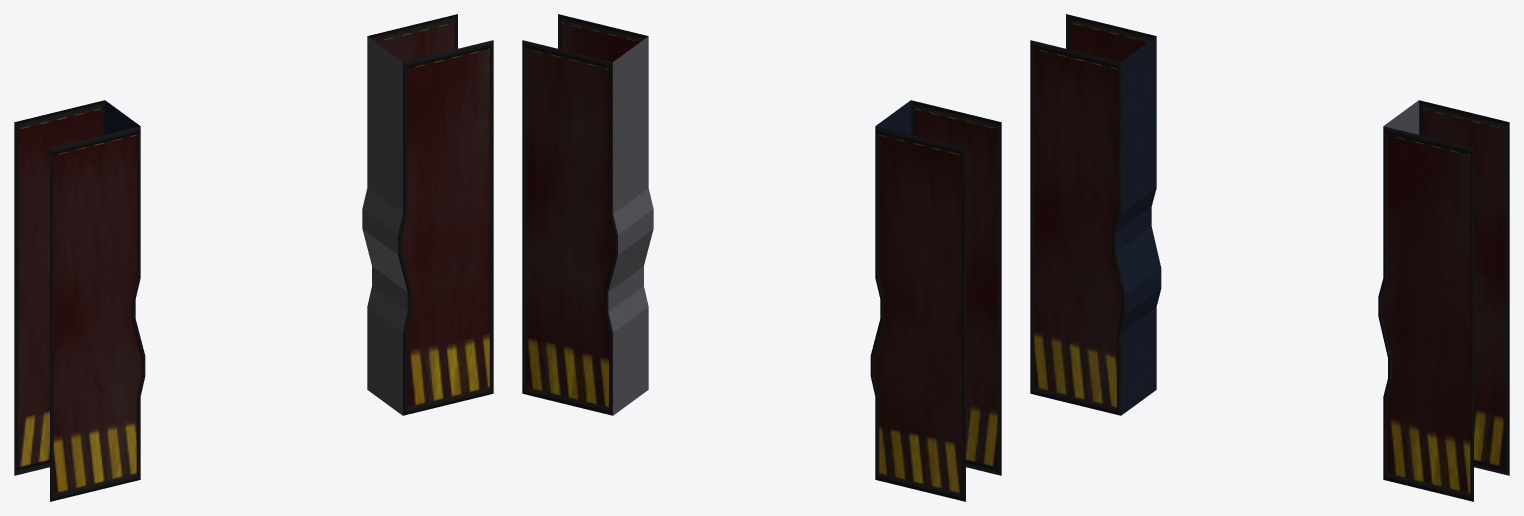
Rendered from door-frame-locked_000006.obj.
3 renders of one model, left to right at view 1: azimuth 30°, elevation 25°; view 2: azimuth 150°, elevation 25°; view 3: azimuth 330°, elevation 25°, orthographic.
Parts seen in each view (by area): view 1: Door.Left_Cube.007, Door.Right_Cube.006; view 2: Door.Left_Cube.007, Door.Right_Cube.006; view 3: Door.Left_Cube.007, Door.Right_Cube.006.
Part boxes in pixels (x1=…): Door.Left_Cube.007: x1=362, y1=14, x2=493, y2=415; Door.Right_Cube.006: x1=14, y1=100, x2=145, y2=501; Door.Left_Cube.007: x1=522, y1=14, x2=653, y2=415; Door.Right_Cube.006: x1=870, y1=100, x2=1001, y2=501; Door.Left_Cube.007: x1=1378, y1=100, x2=1509, y2=501; Door.Right_Cube.006: x1=1030, y1=14, x2=1161, y2=415.
Bounding box in the file's own units: 6.91 × 5.26 × 0.9998.
6 materials, 6 textured.
